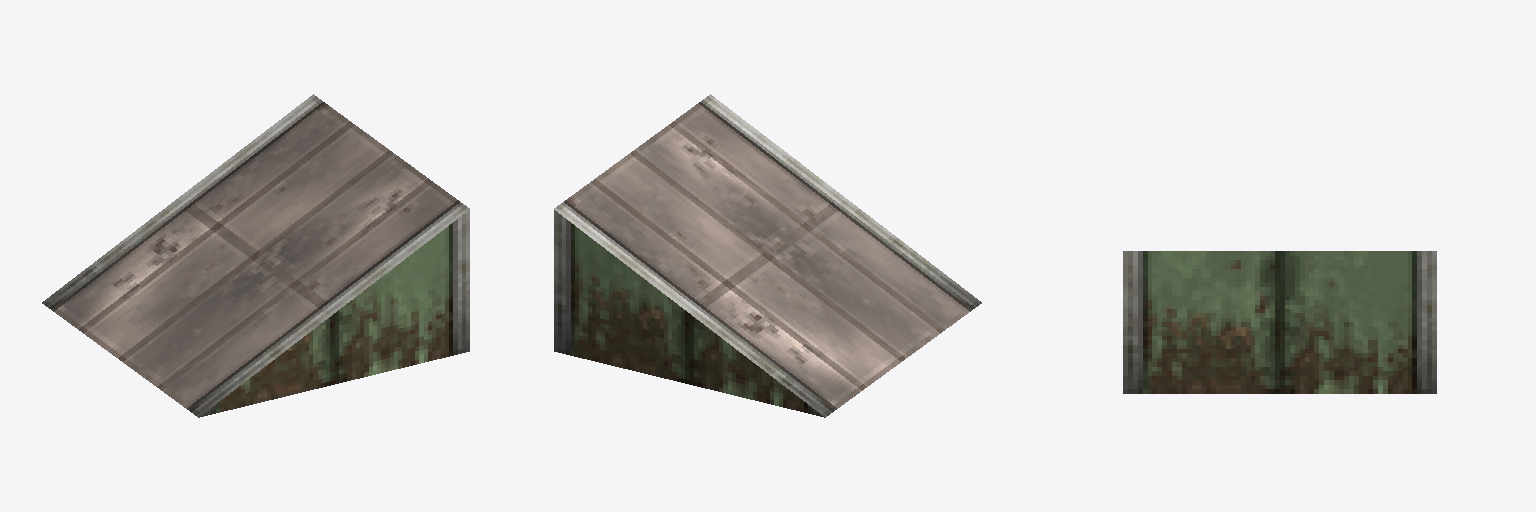
3 views of the same model, side by side, from view 1: azimuth 30°, elevation 25°; view 2: azimuth 150°, elevation 25°; view 3: azimuth 270°, elevation 25° (orthographic).
Parts seen in each view (by area): view 1: wallB_roofSlant; view 2: wallB_roofSlant; view 3: wallB_roofSlant.
Boxes of the visible parts, box(x1,y1,x2,y2) form: wallB_roofSlant: box(42, 94, 469, 417); wallB_roofSlant: box(554, 94, 981, 417); wallB_roofSlant: box(1123, 251, 1436, 393).
Bounding box in the file's own units: 1 × 0.5 × 1.
3 materials, 3 textured.